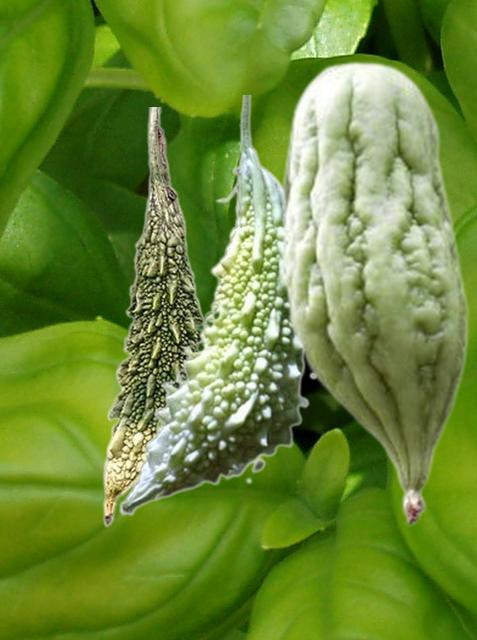ampalaya: (280, 60, 469, 525), (118, 95, 316, 515), (102, 107, 204, 527)
